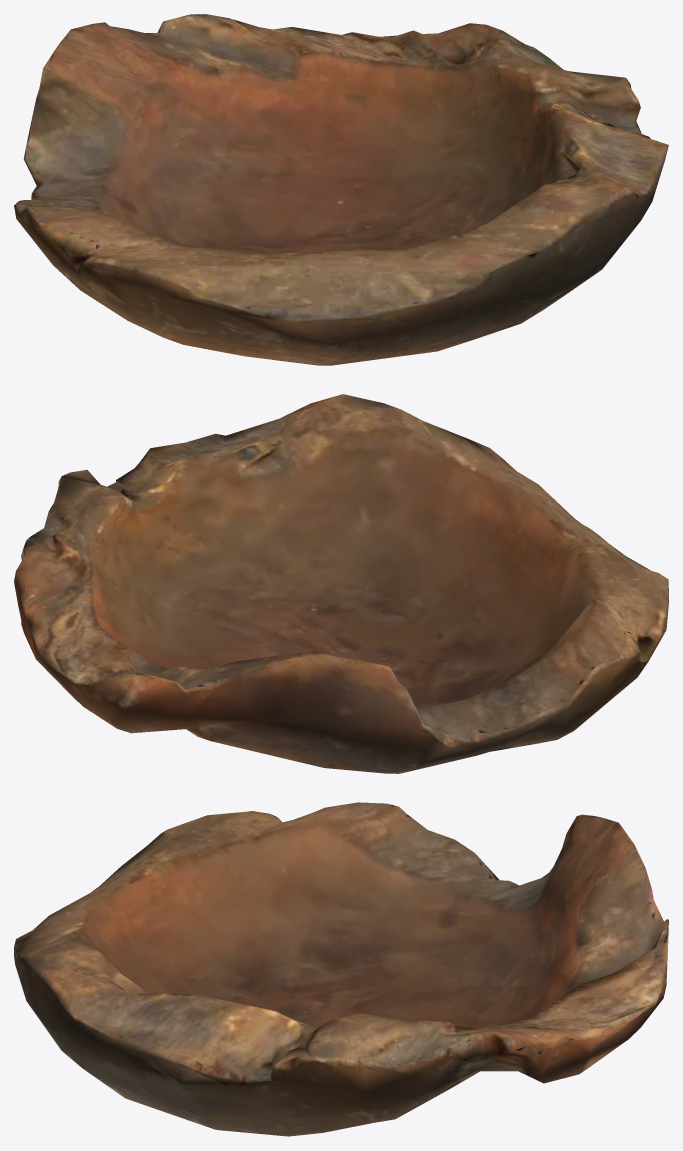
Rendered from wooden_bowl_01.glb.
3 views of the same model, one above another, from view 1: azimuth 30°, elevation 25°; view 2: azimuth 150°, elevation 25°; view 3: azimuth 270°, elevation 25° (orthographic). The views are drawn at different scales.
Visible parts, largest first — view 1: wooden_bowl_01; view 2: wooden_bowl_01; view 3: wooden_bowl_01.
Boxes of the visible parts, x1=… form: wooden_bowl_01: x1=14, y1=14, x2=668, y2=365; wooden_bowl_01: x1=14, y1=394, x2=668, y2=773; wooden_bowl_01: x1=14, y1=802, x2=668, y2=1136.
Bounding box in the file's own units: 0.3127 × 0.0932 × 0.3081.
1 material, 1 textured.
